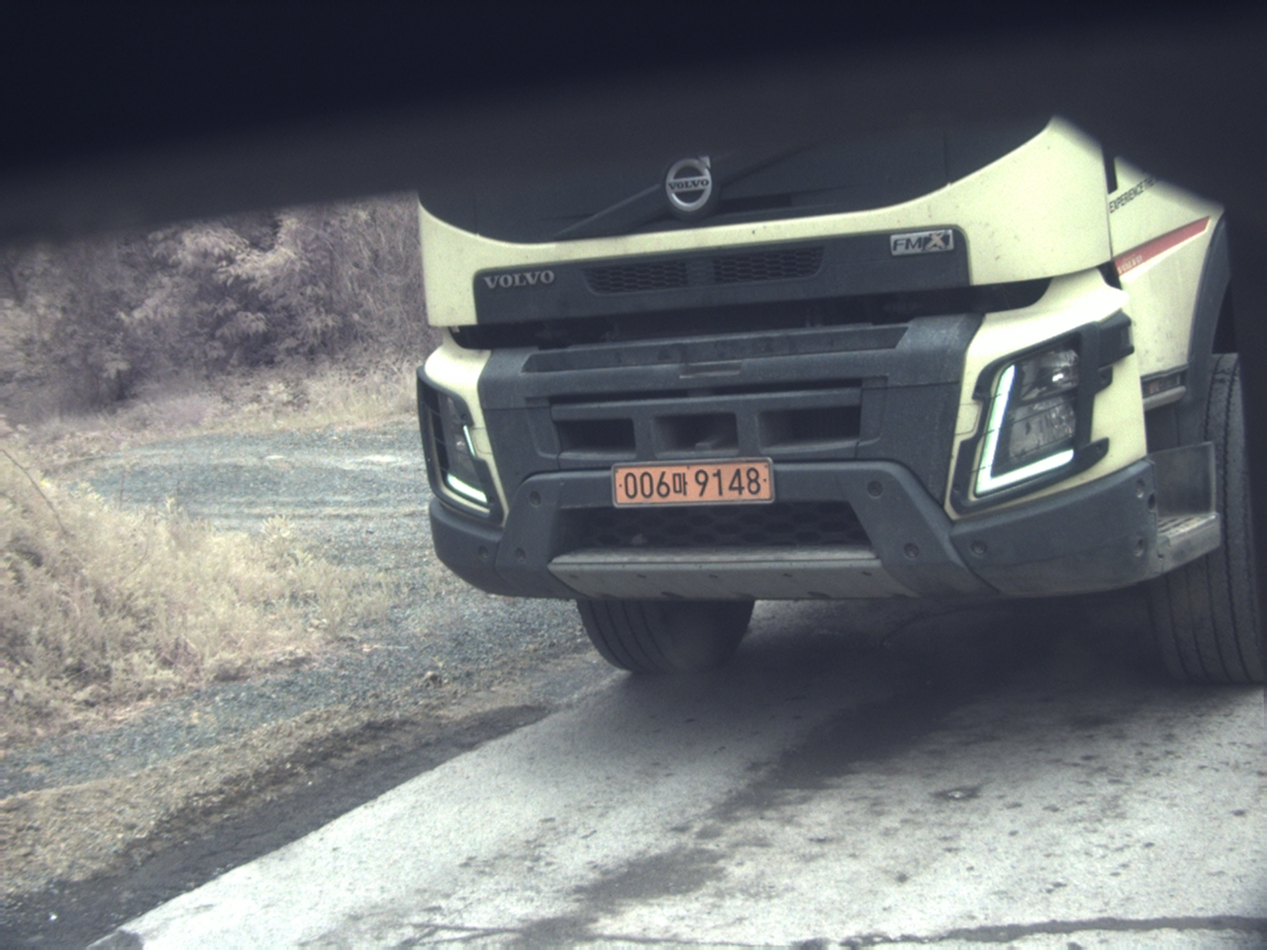license_plate: (614, 458, 772, 507)
truck: (418, 119, 1262, 681)
